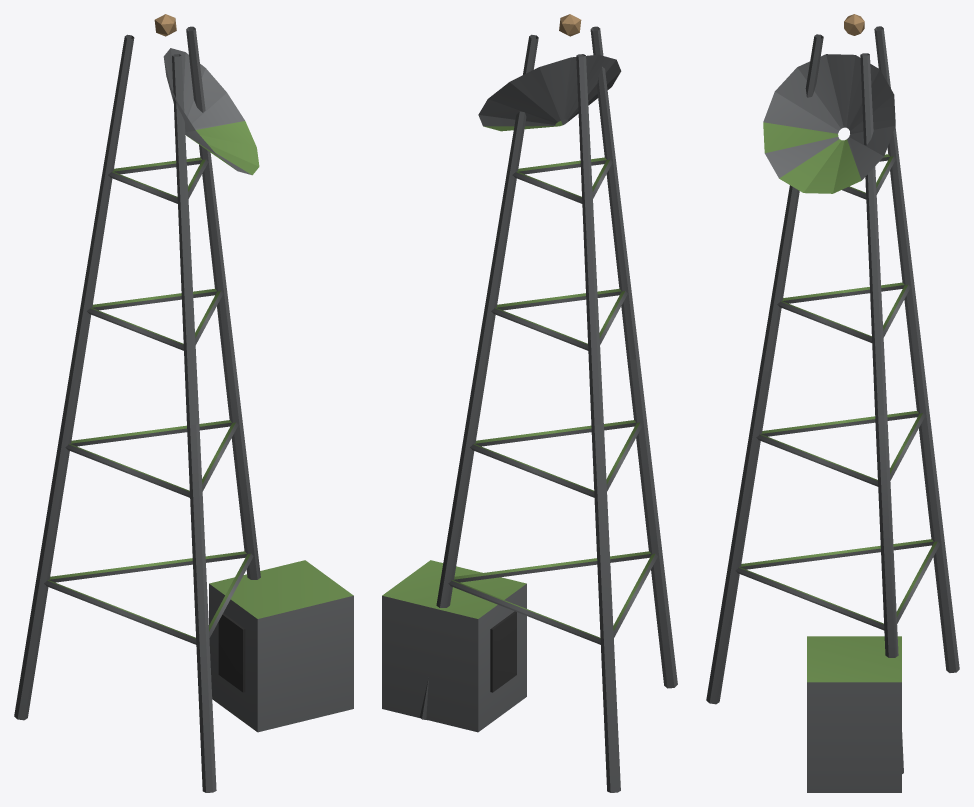
File: obj_antena_2.glb
3 renders of one model, left to right at view 1: azimuth 30°, elevation 25°; view 2: azimuth 150°, elevation 25°; view 3: azimuth 270°, elevation 25°, orthographic. The views are drawn at different scales.
Parts seen in each view (by area): view 1: propforge-libre-antena; view 2: propforge-libre-antena; view 3: propforge-libre-antena.
Boxes of the visible parts, x1=… form: propforge-libre-antena: x1=14, y1=14, x2=353, y2=792; propforge-libre-antena: x1=382, y1=14, x2=677, y2=792; propforge-libre-antena: x1=706, y1=14, x2=959, y2=792.
Bounding box in the file's own units: 0.6567 × 1.71 × 0.5603.
